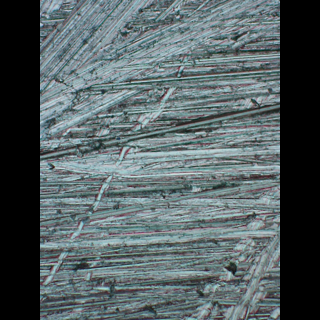d: (40, 0, 274, 140)
